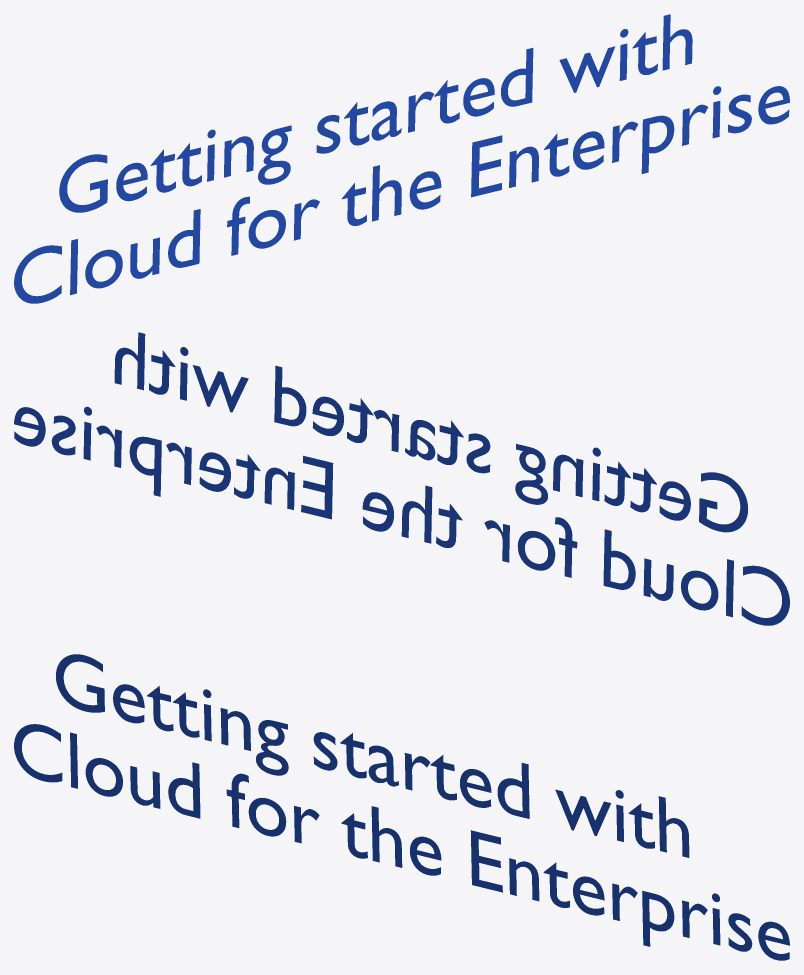
The model's file is GettingstartedwithCloudfortheEnterprise.glb.
3 views of the same model, one above another, from view 1: azimuth 30°, elevation 25°; view 2: azimuth 150°, elevation 25°; view 3: azimuth 330°, elevation 25° (orthographic).
Visible parts, largest first — view 1: Text.001; view 2: Text.001; view 3: Text.001.
Part boxes in pixels (x1,y1,x2,y2): Text.001: (14, 14, 789, 303); Text.001: (14, 332, 789, 625); Text.001: (14, 654, 789, 960).
Size of the model in its own units: 9.94 by 1.92 by 0.0725.
